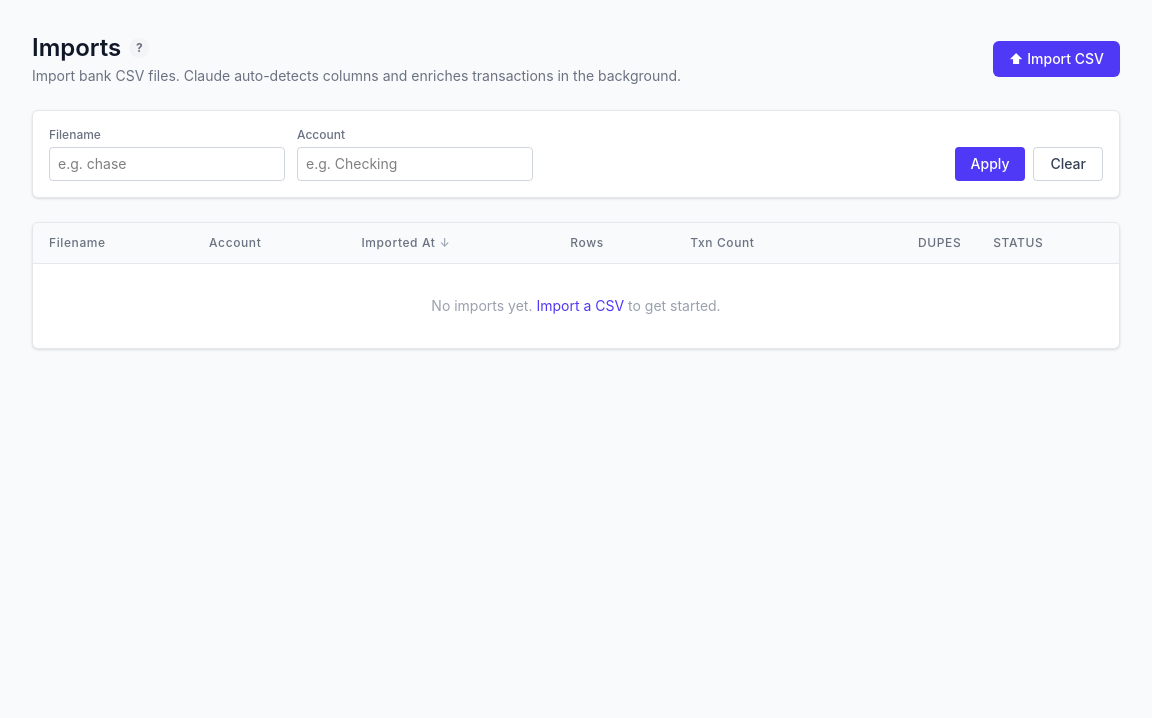
Test: ImportsPage › shows validation error when submitting without a file
Click the button "⬆ Import CSV" at x=1056, y=59, box [993,41,1120,77]
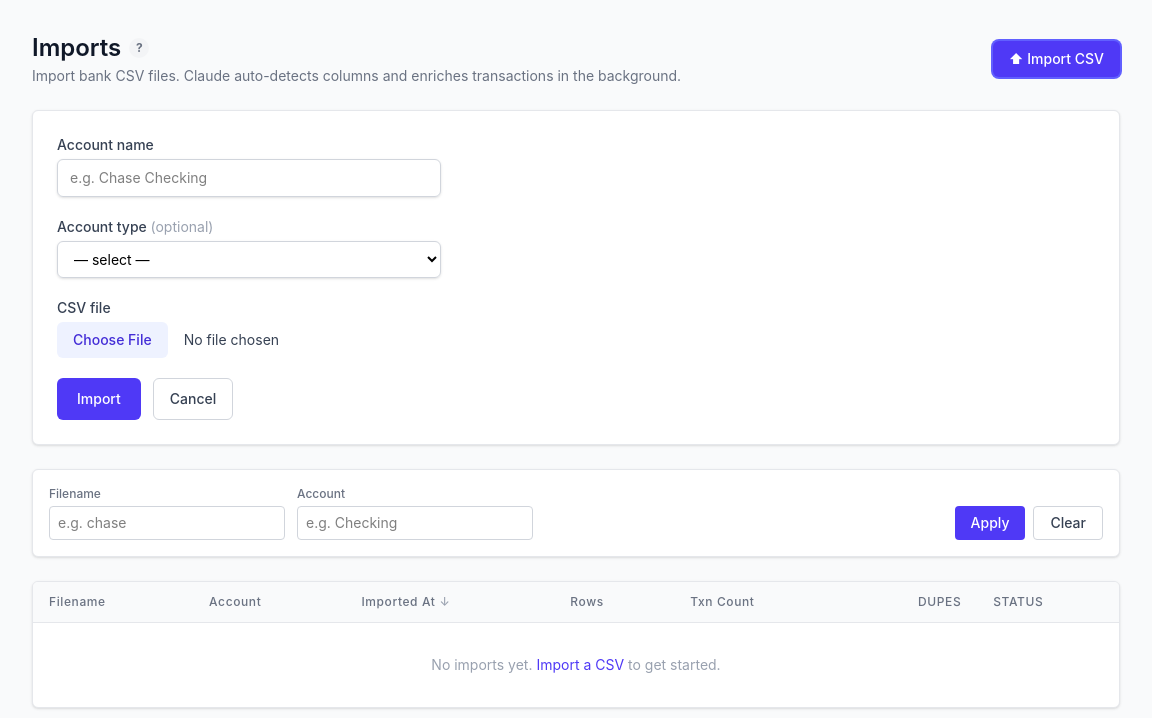
Type "Chase" into the field labelled "Account name" at x=249, y=178, box [57,159,441,197]
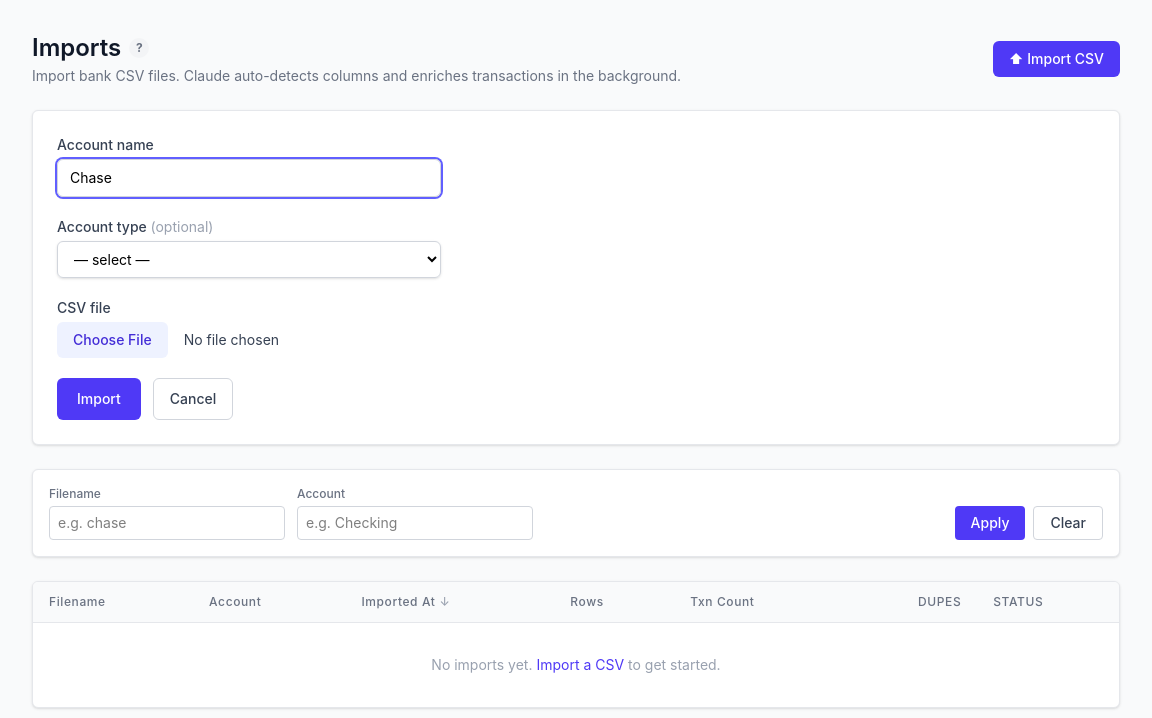
Click the button "Import" at x=99, y=399, box [57,378,141,420]
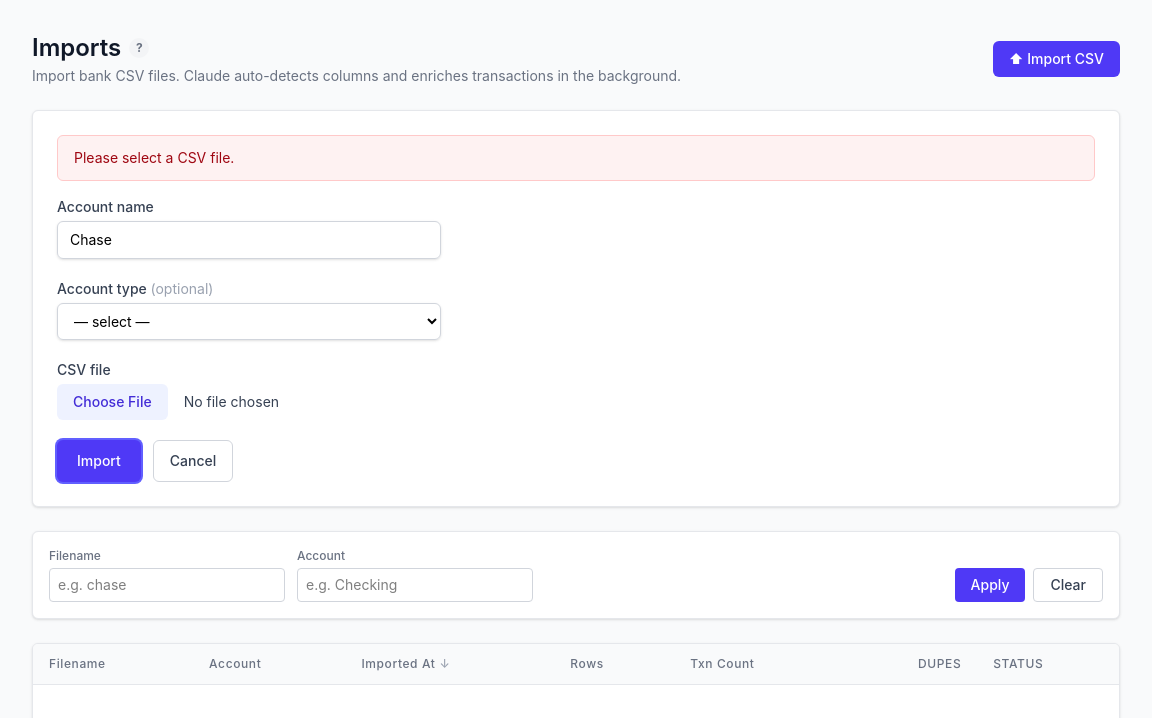
expect the text "Please select a CSV file." is shown: met, box [57,135,1095,181]
